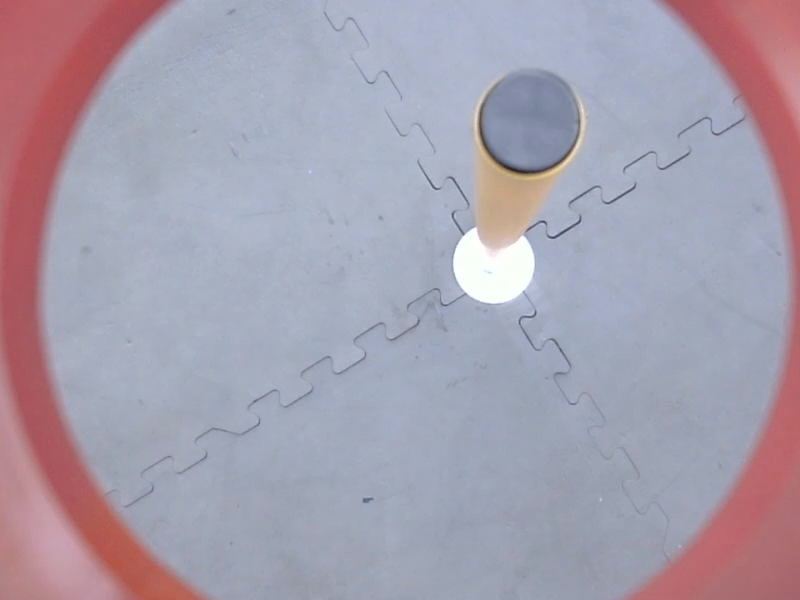tip: (467, 58, 593, 189)
